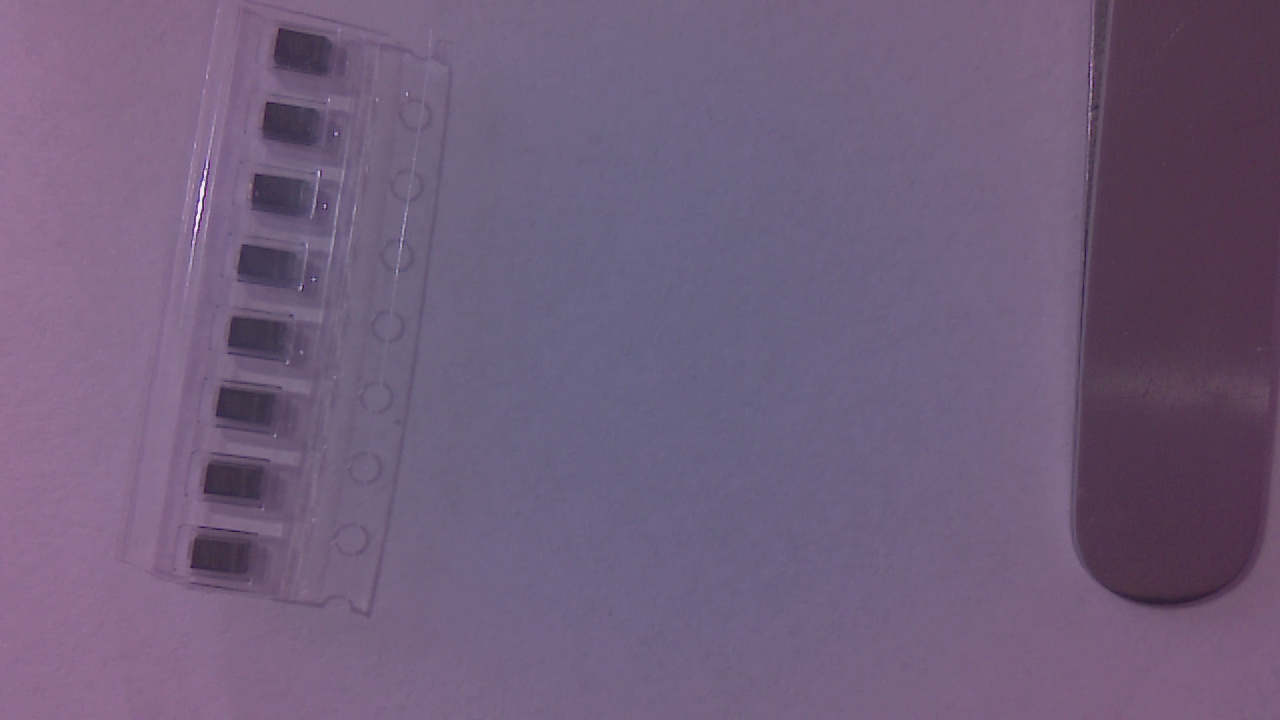Diode: (191, 538, 262, 582), (270, 36, 342, 79), (204, 463, 275, 505), (215, 390, 287, 431), (262, 103, 329, 145), (230, 323, 300, 362), (252, 179, 317, 220), (238, 251, 311, 287)
